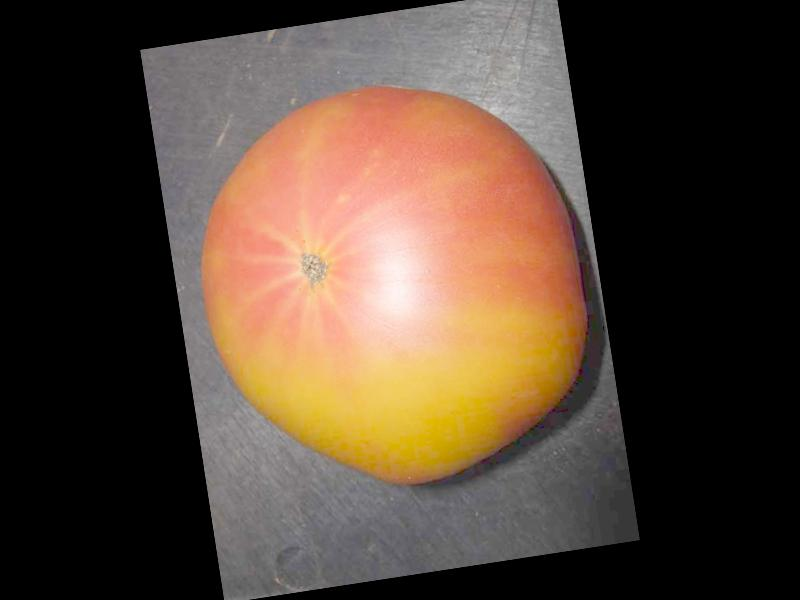Tomato: (176, 60, 609, 505)
